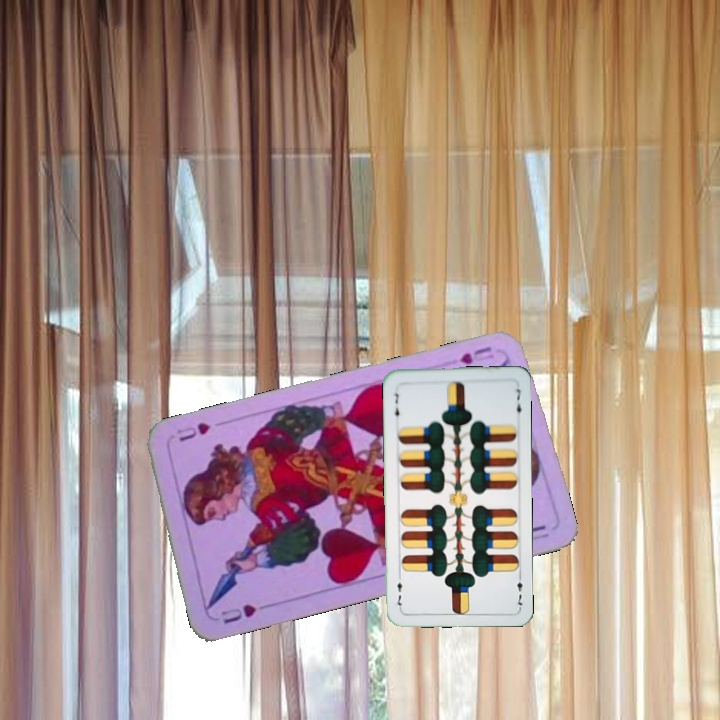E7: (512, 569, 525, 610), (390, 389, 402, 423)
HU: (217, 599, 272, 627), (455, 342, 494, 367)
